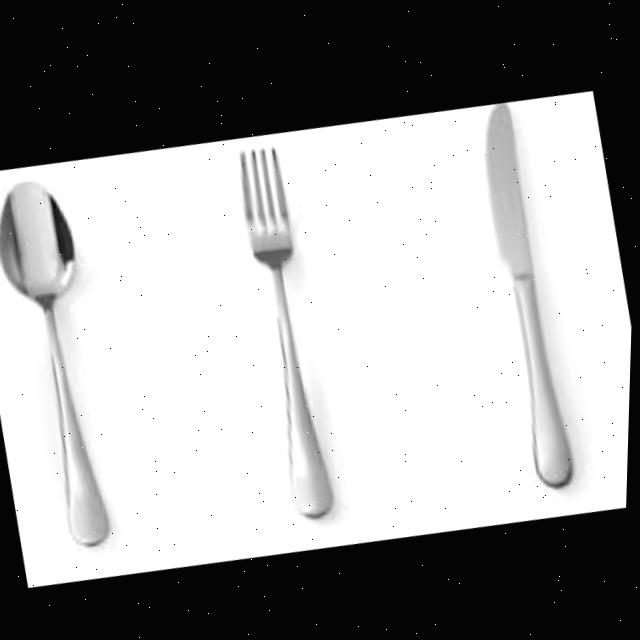Knife: (464, 92, 588, 483)
